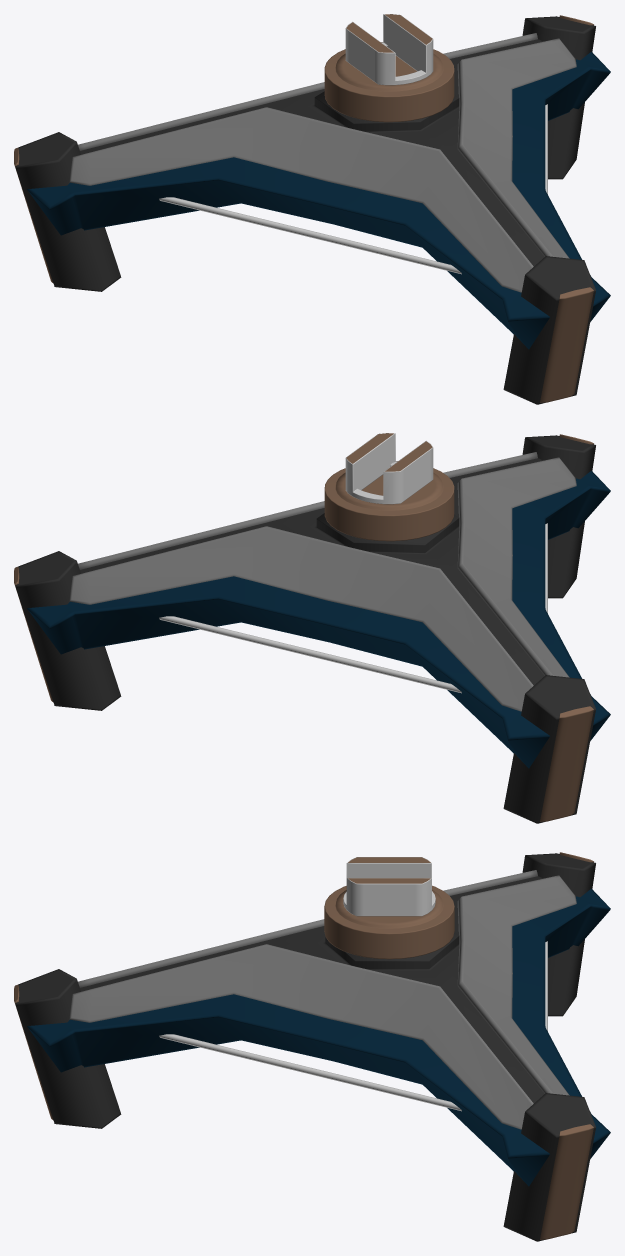
File: TORRETABase.fbx
3 renders of one model, top to bottom at view 1: azimuth 30°, elevation 25°; view 2: azimuth 150°, elevation 25°; view 3: azimuth 270°, elevation 25°, orthographic.
Parts seen in each view (by area): view 1: base, rotation; view 2: base, rotation; view 3: base, rotation.
Part boxes in pixels (left/top/right/bottom): base: left=14, top=15, right=610, bottom=404; rotation: left=324, top=14, right=454, bottom=122; base: left=14, top=434, right=610, bottom=823; rotation: left=324, top=433, right=454, bottom=541; base: left=14, top=852, right=610, bottom=1241; rotation: left=324, top=857, right=454, bottom=959.
Bounding box in the file's own units: 200 × 80.43 × 178.
